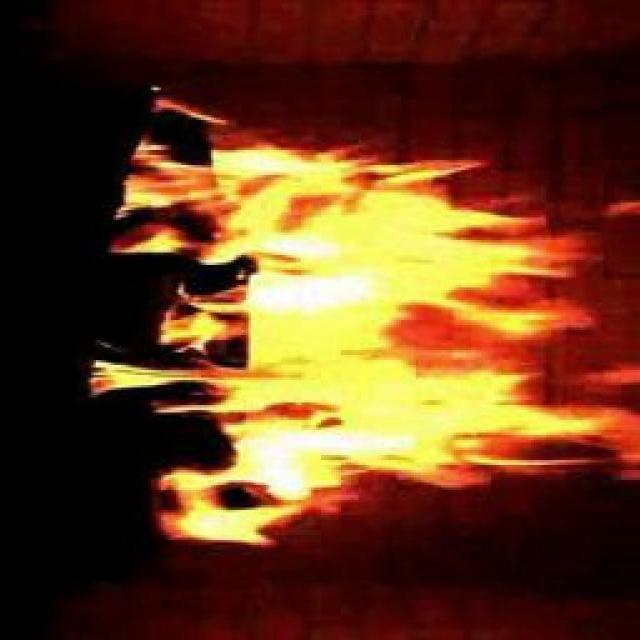Fire: (187, 148, 620, 482)
